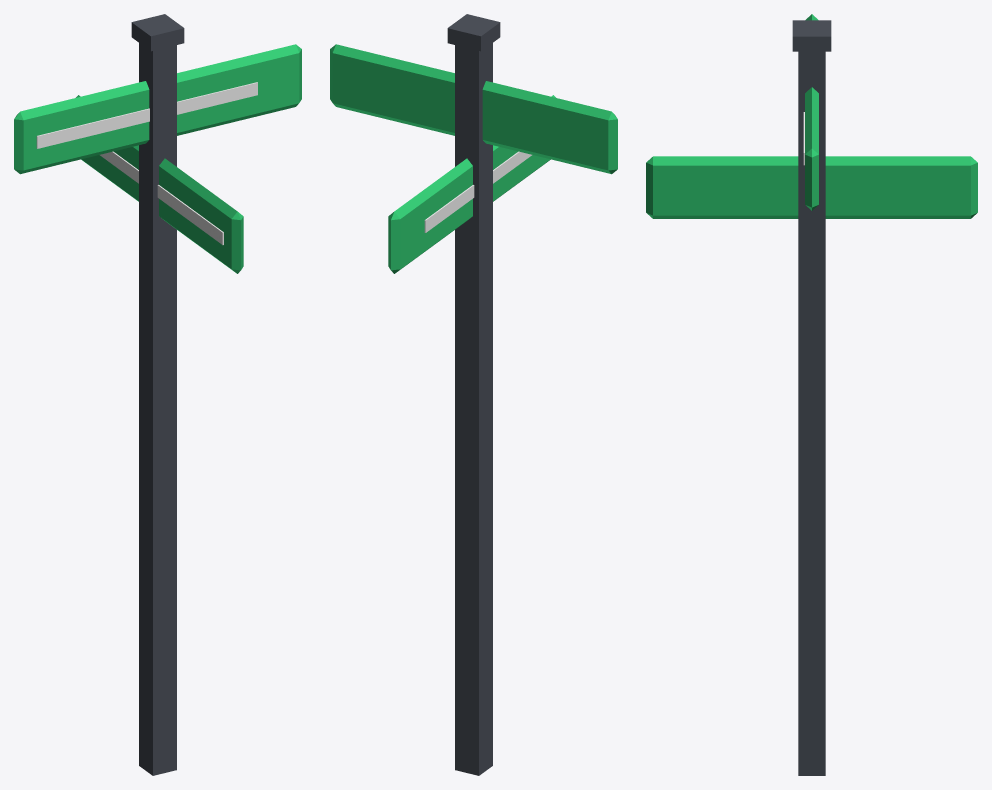
File: street-sign.glb
3 renders of one model, left to right at view 1: azimuth 30°, elevation 25°; view 2: azimuth 150°, elevation 25°; view 3: azimuth 270°, elevation 25°, orthographic.
Visible parts, largest first — view 1: street_sign; view 2: street_sign; view 3: street_sign.
Part boxes in pixels (bbox=[...]): street_sign: bbox=[14, 14, 301, 775]; street_sign: bbox=[330, 14, 617, 775]; street_sign: bbox=[646, 14, 977, 775].
Size of the model in its own units: 1.2 by 2.96 by 1.2.
